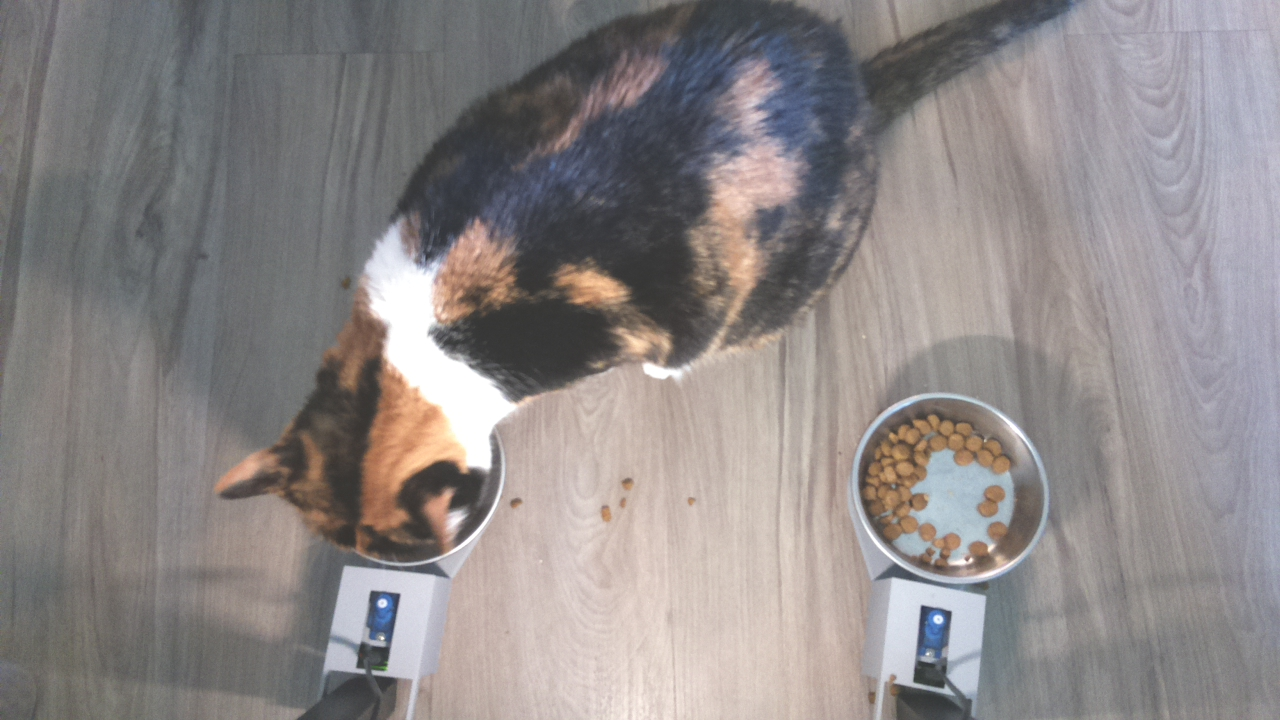bella_eating: (222, 257, 522, 583)
open_bowl: (849, 387, 1054, 587)
